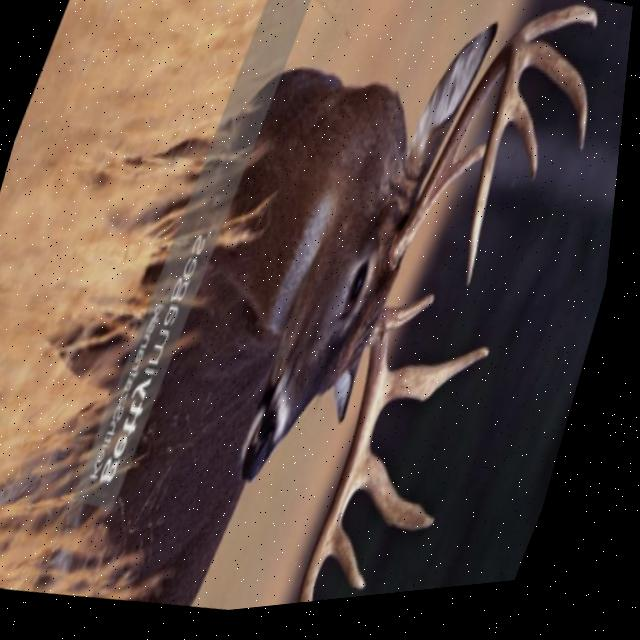L-F: (398, 41, 527, 298)
L-G1: (443, 153, 491, 208)
L-G2: (522, 16, 600, 50)
L-G3: (525, 51, 592, 166)
L-G4: (510, 97, 543, 192)
R-G1: (395, 303, 442, 340)
R-G2: (390, 358, 500, 418)
R-G3: (360, 447, 448, 542)
R-G4: (336, 527, 379, 599)
